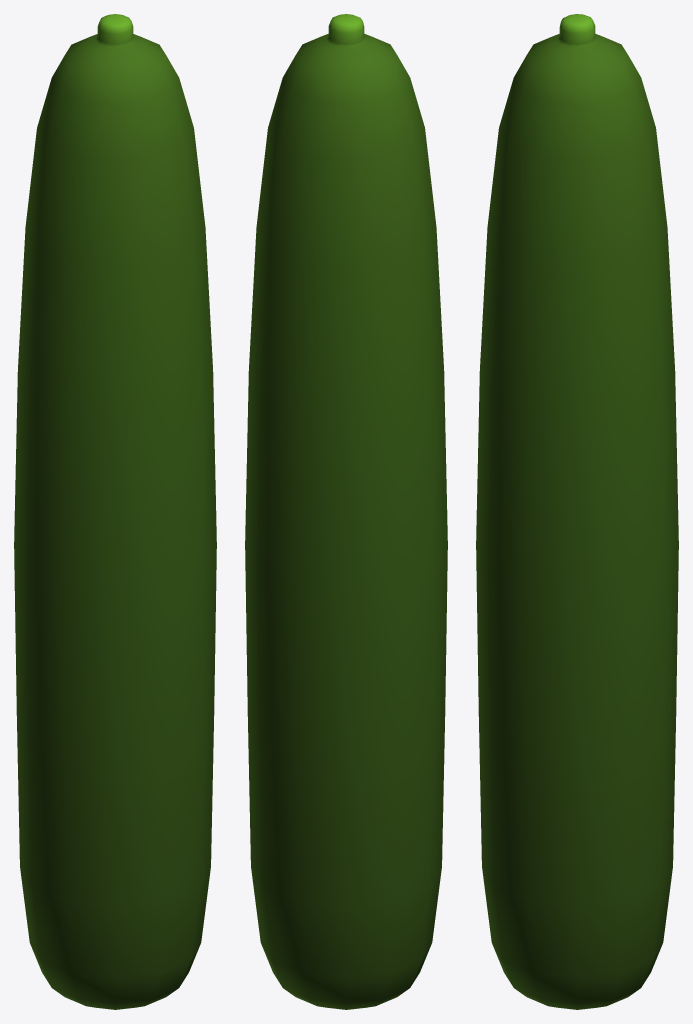
The model's file is Cucumber.fbx.
The picture shows the model from 3 angles, left to right: view 1: azimuth 30°, elevation 25°; view 2: azimuth 150°, elevation 25°; view 3: azimuth 270°, elevation 25°; orthographic projection.
Parts seen in each view (by area): view 1: Cucumber; view 2: Cucumber; view 3: Cucumber.
Boxes of the visible parts, x1,y1,x2,y2 form: Cucumber: [14, 14, 216, 1009]; Cucumber: [245, 14, 447, 1009]; Cucumber: [476, 14, 678, 1009].
Size of the model in its own units: 5.61 by 29.9 by 5.61.
